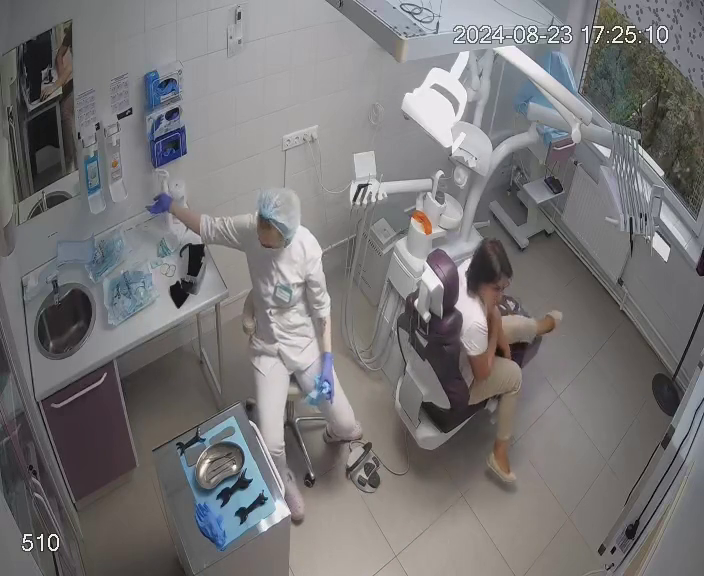Empty: (380, 238, 568, 488)
